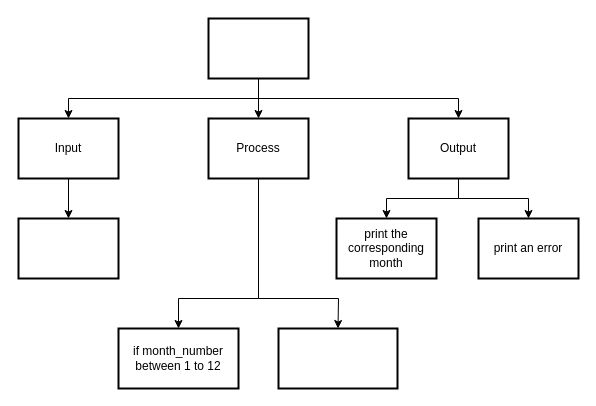
Image size: 596x406. Some labels were removed from this diagram. The box of each missing label's shape, as (x1, y1, x2, y2) in pixels:
Get month_number: (17, 217, 119, 279)
if month_number not between 1 to 12: (277, 327, 398, 389)
Number to Month: (207, 17, 309, 79)
